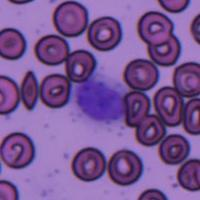L: (74, 76, 123, 124)
